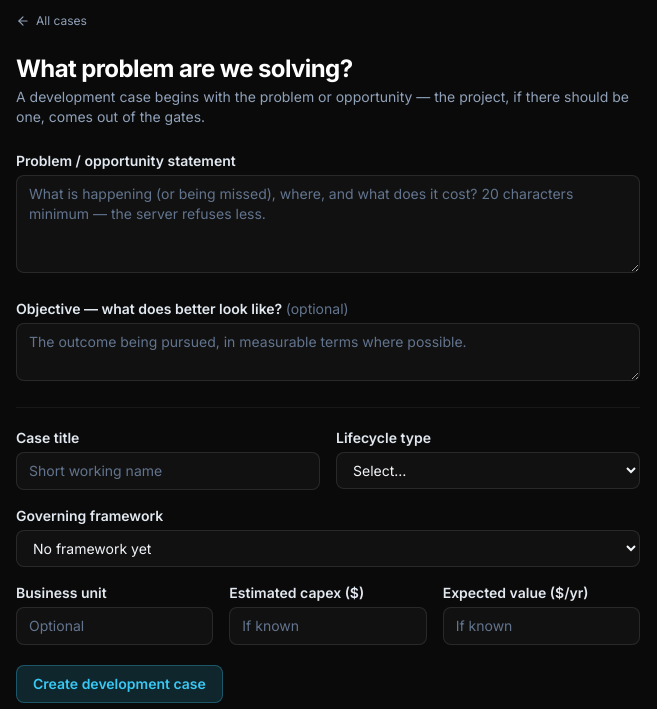
DevelopIntakePage › renders the server's refusal verbatim
The width and height of the screenshot is (657, 709).
Replace the text in the text box labelled "Problem / opportunity statement" with "This is a long enough statement for the client." at (328, 224), box [16,175,640,273]
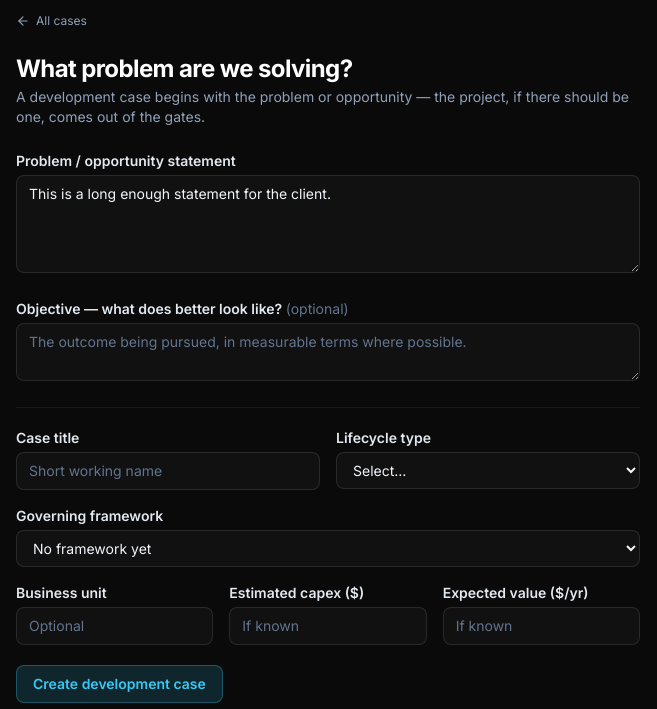
Type "T" into the field labelled "Case title".
click(168, 471); type("T")  # box [16,452,320,490]
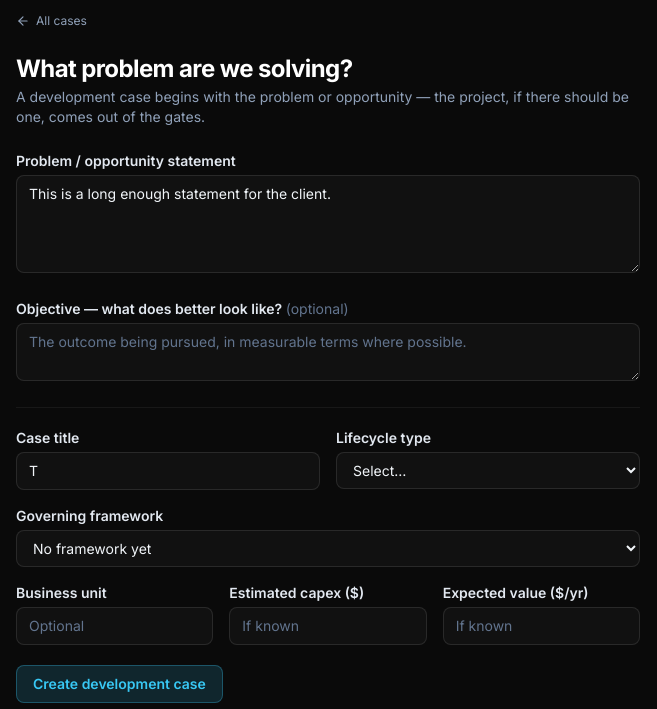
Select "Brownfield" in the dropdown labelled "Lifecycle type" at (488, 470), box [336,452,640,489]
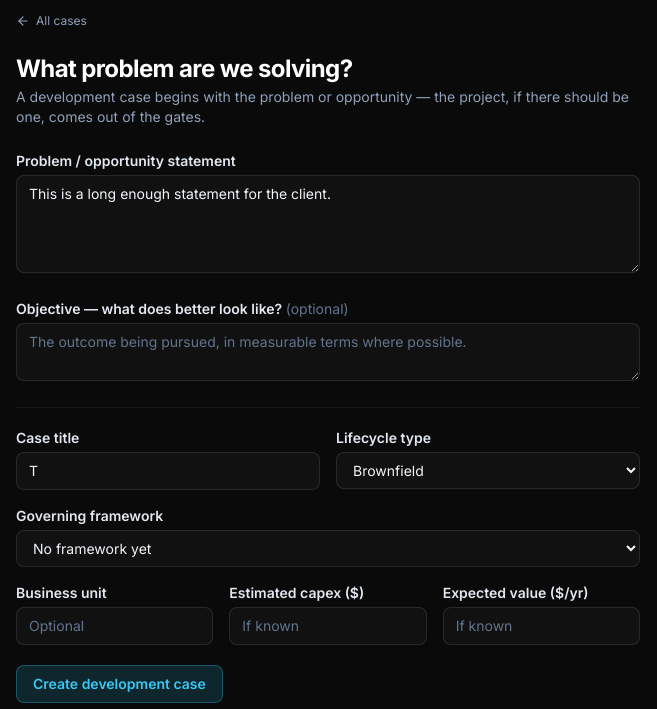
Click the button "Create development case".
click(119, 684)  # box [16,665,223,703]
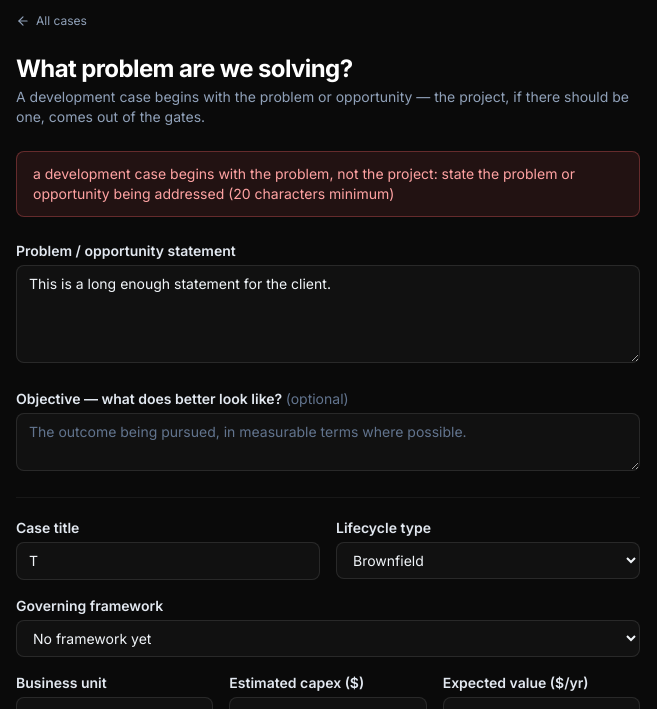
Result: the text "begins with the problem, not the project" is shown at [33,165,575,202]
